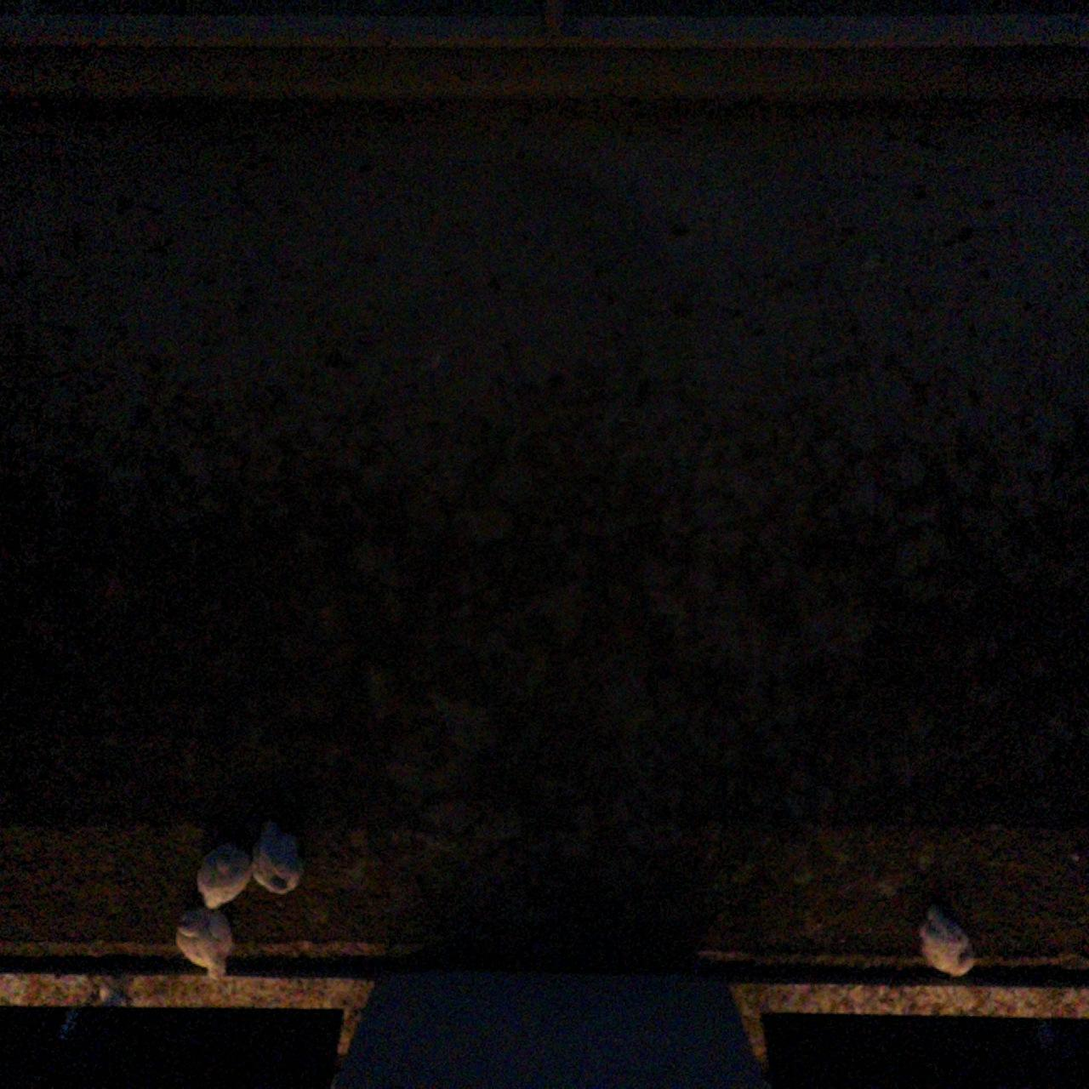chicken: (174, 905, 235, 981), (923, 907, 975, 977), (256, 826, 307, 892), (195, 854, 254, 906)
